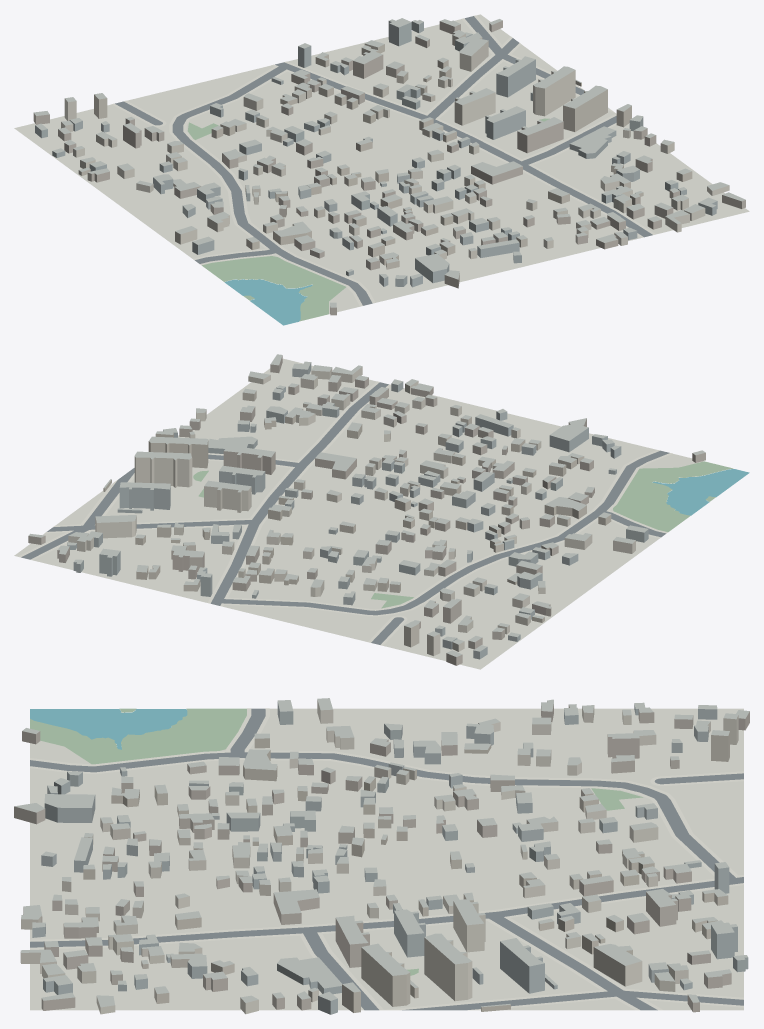
3 renders of one model, top to bottom at view 1: azimuth 30°, elevation 25°; view 2: azimuth 150°, elevation 25°; view 3: azimuth 270°, elevation 25°, orthographic. The views are drawn at different scales.
Visible parts, largest first — view 1: city; view 2: city; view 3: city.
Part boxes in pixels (box(x1,y1,x2,y2)): city: box(14, 14, 749, 325); city: box(14, 354, 749, 669); city: box(14, 698, 749, 1014).
Size of the model in its own units: 507 by 28.68 by 515.
